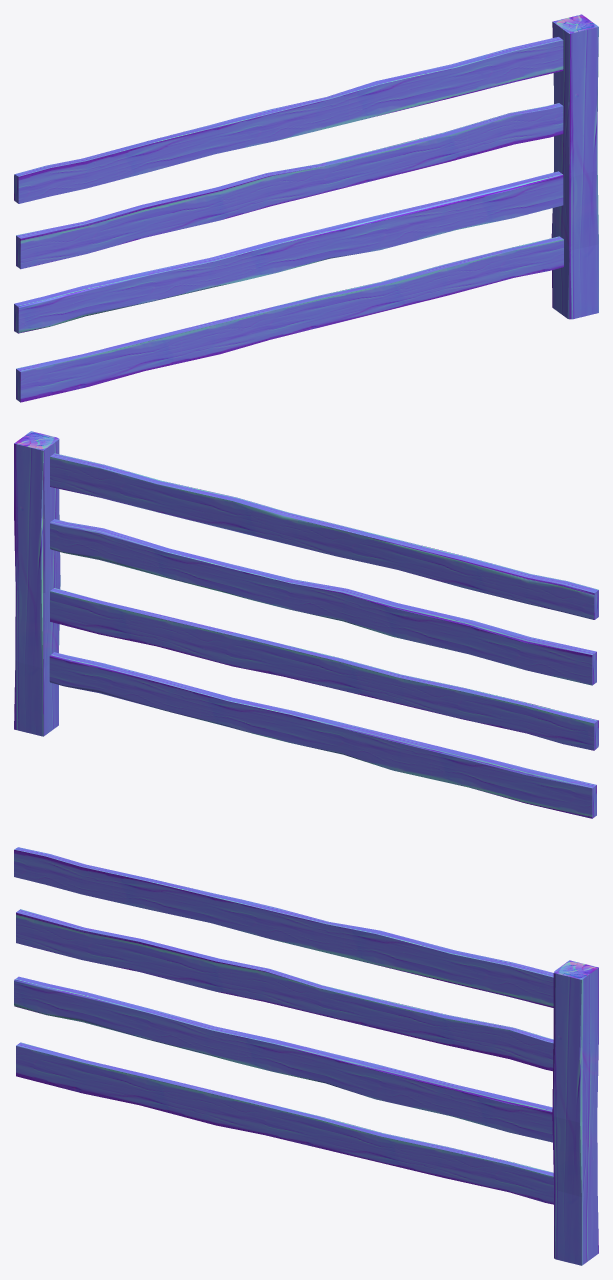
File: SM_WoodenFence_A_02.fbx
The picture shows the model from 3 angles, top to bottom: view 1: azimuth 30°, elevation 25°; view 2: azimuth 150°, elevation 25°; view 3: azimuth 330°, elevation 25°; orthographic projection.
Visible parts, largest first — view 1: SM_WoodenFence_A_02_LOD0; view 2: SM_WoodenFence_A_02_LOD0; view 3: SM_WoodenFence_A_02_LOD0.
Boxes of the visible parts, box(x1,y1,x2,y2) form: SM_WoodenFence_A_02_LOD0: box(14, 14, 598, 402); SM_WoodenFence_A_02_LOD0: box(14, 431, 598, 818); SM_WoodenFence_A_02_LOD0: box(14, 847, 598, 1265).
Size of the model in its own units: 257 by 122 by 13.56.
